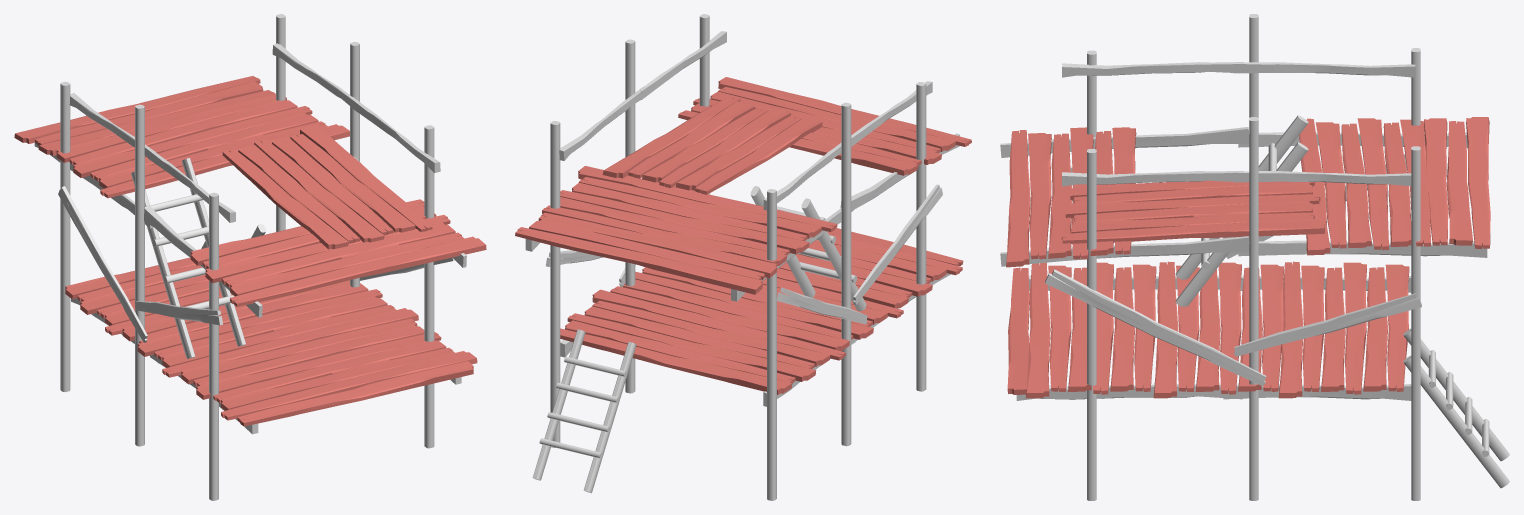
Rendered from MediumScaffolding.fbx.
The picture shows the model from 3 angles, left to right: view 1: azimuth 30°, elevation 25°; view 2: azimuth 150°, elevation 25°; view 3: azimuth 270°, elevation 25°; orthographic projection. The views are drawn at different scales.
Parts seen in each view (by area): view 1: MoyenEchaffaudage; view 2: MoyenEchaffaudage; view 3: MoyenEchaffaudage.
Boxes of the visible parts, x1=… form: MoyenEchaffaudage: x1=14, y1=14, x2=486, y2=500; MoyenEchaffaudage: x1=515, y1=14, x2=971, y2=500; MoyenEchaffaudage: x1=1000, y1=14, x2=1509, y2=500.
Bounding box in the file's own units: 786 × 1036 × 1257.
